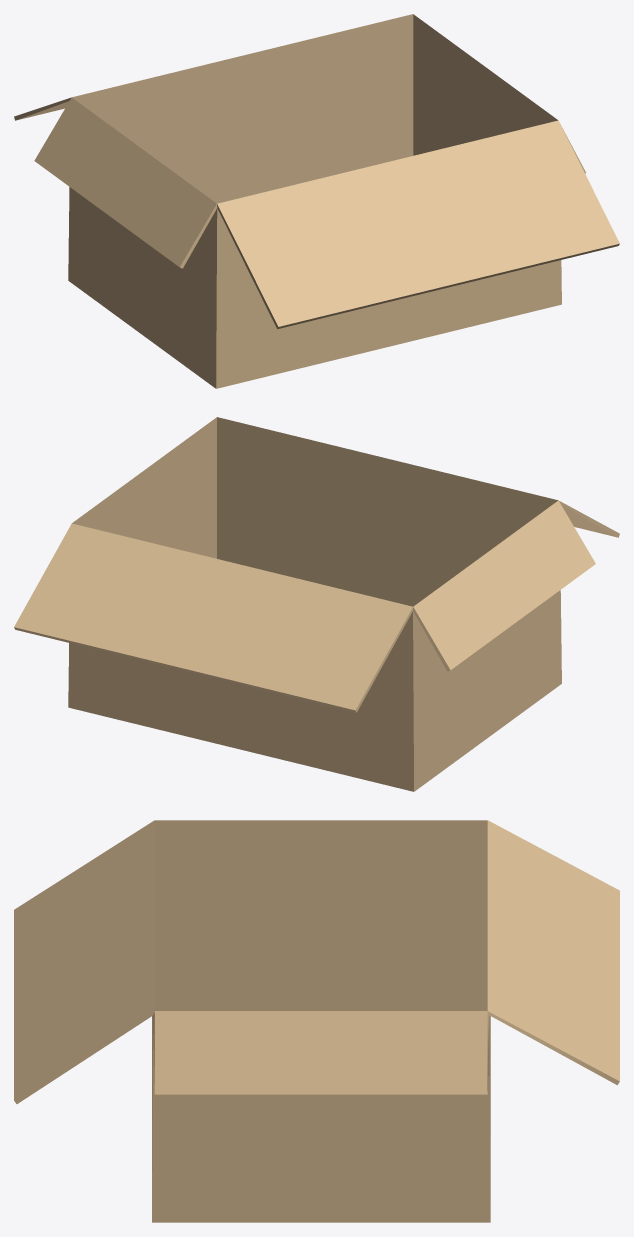
File: SM_carton_03.fbx
The picture shows the model from 3 angles, top to bottom: view 1: azimuth 30°, elevation 25°; view 2: azimuth 150°, elevation 25°; view 3: azimuth 270°, elevation 25°; orthographic projection. The views are drawn at different scales.
Parts seen in each view (by area): view 1: Box068; view 2: Box068; view 3: Box068.
Boxes of the visible parts, box(x1,y1,x2,y2) form: Box068: box(14, 14, 619, 388); Box068: box(14, 417, 619, 791); Box068: box(14, 820, 619, 1222).
Size of the model in its own units: 39.56 by 44.56 by 17.08.
